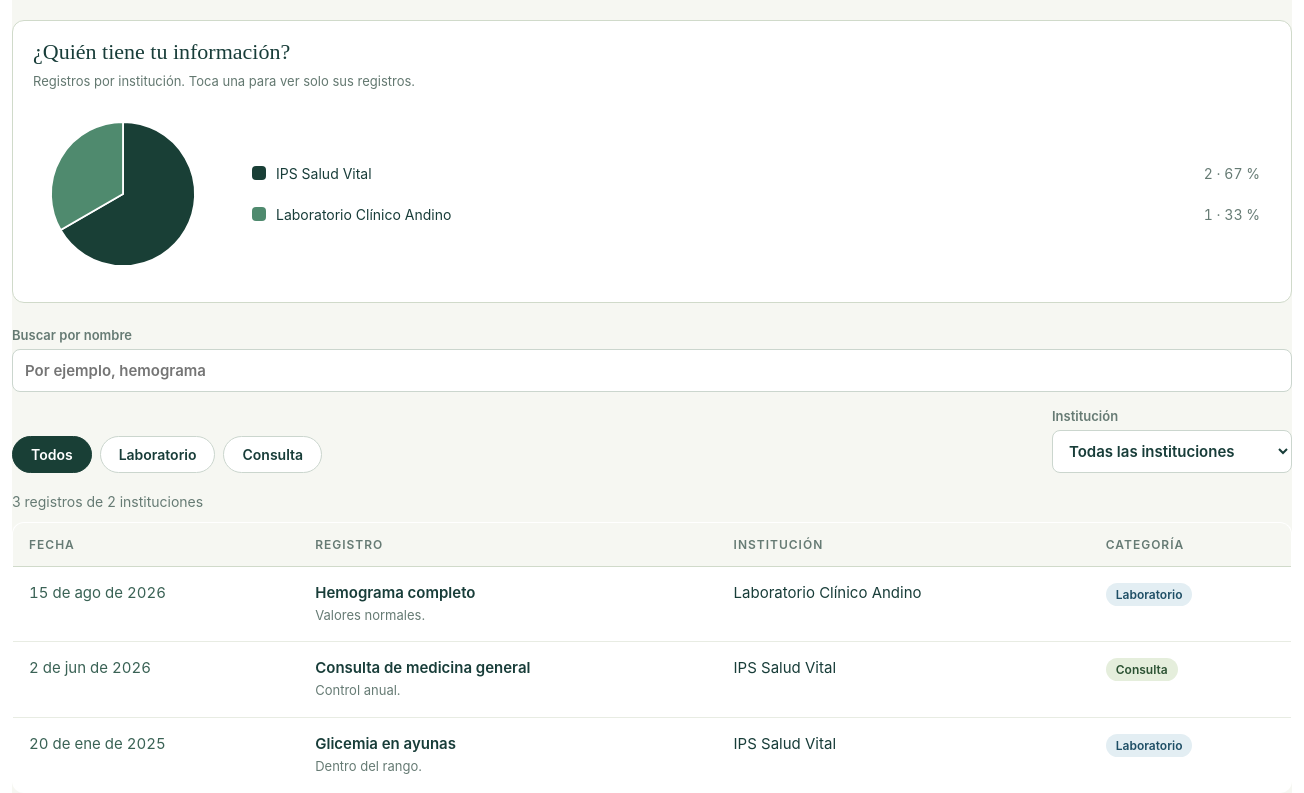
Test case: Filtros del historial (US-04, US-05) › filtra por categoría y solo ofrece las categorías que existen
The image size is (1304, 793).
(page scrolled)
Expected: the table is shown, [12,522,1292,792]
Click the button "Laboratorio" at (158, 454), box [100,436,216,473]
(page scrolled)
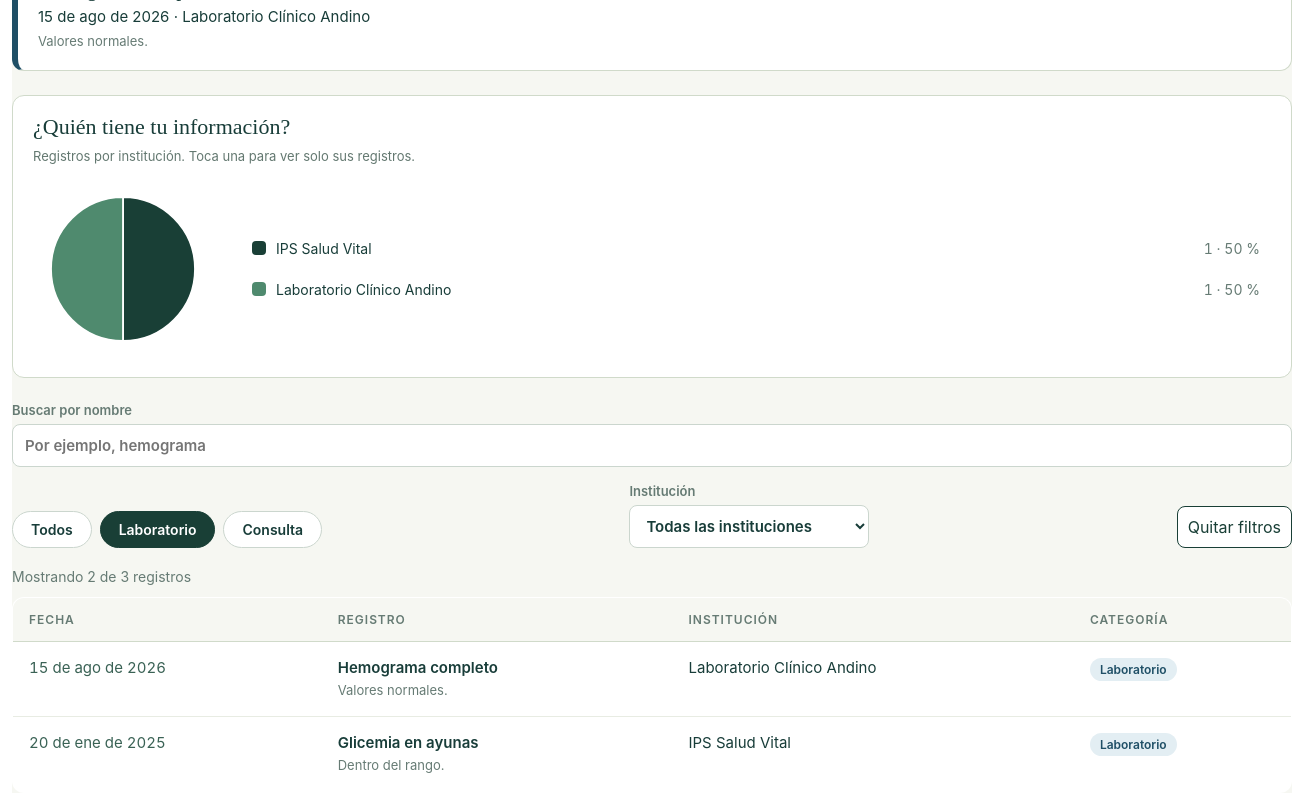
Expected: the text "Mostrando 2 de 3 registros" is shown, [12,568,191,585]
